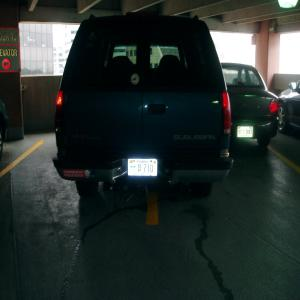Vehicle-registration-plate: (126, 156, 164, 182), (238, 126, 253, 138)
